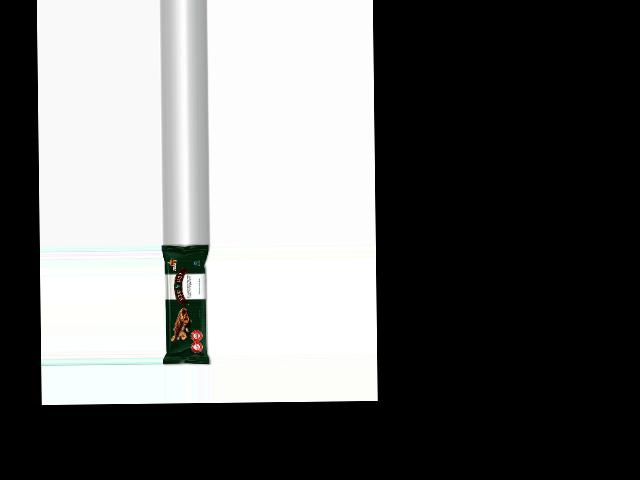chocolate: (161, 242, 212, 365)
